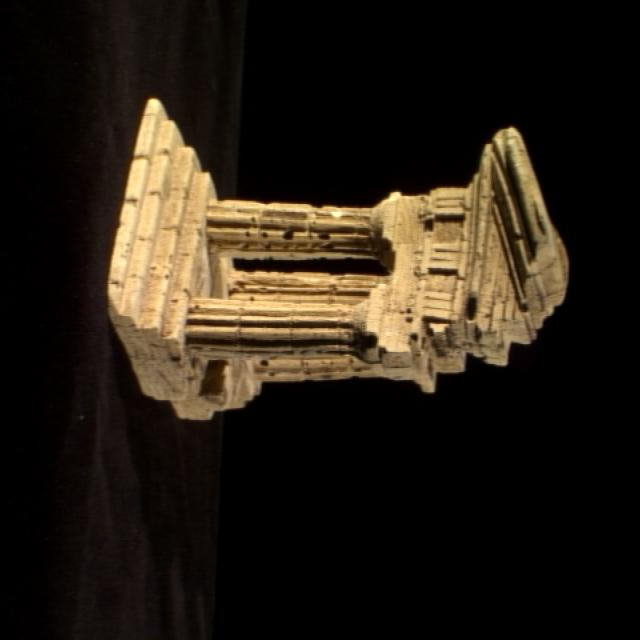Instance-Segmentation: (108, 99, 568, 419)
